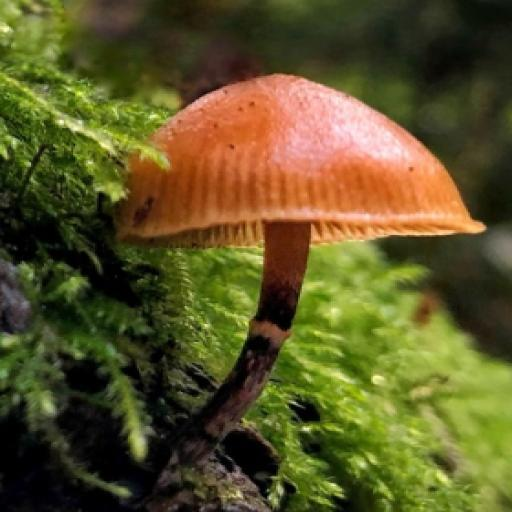mushroom: (122, 51, 489, 373)
